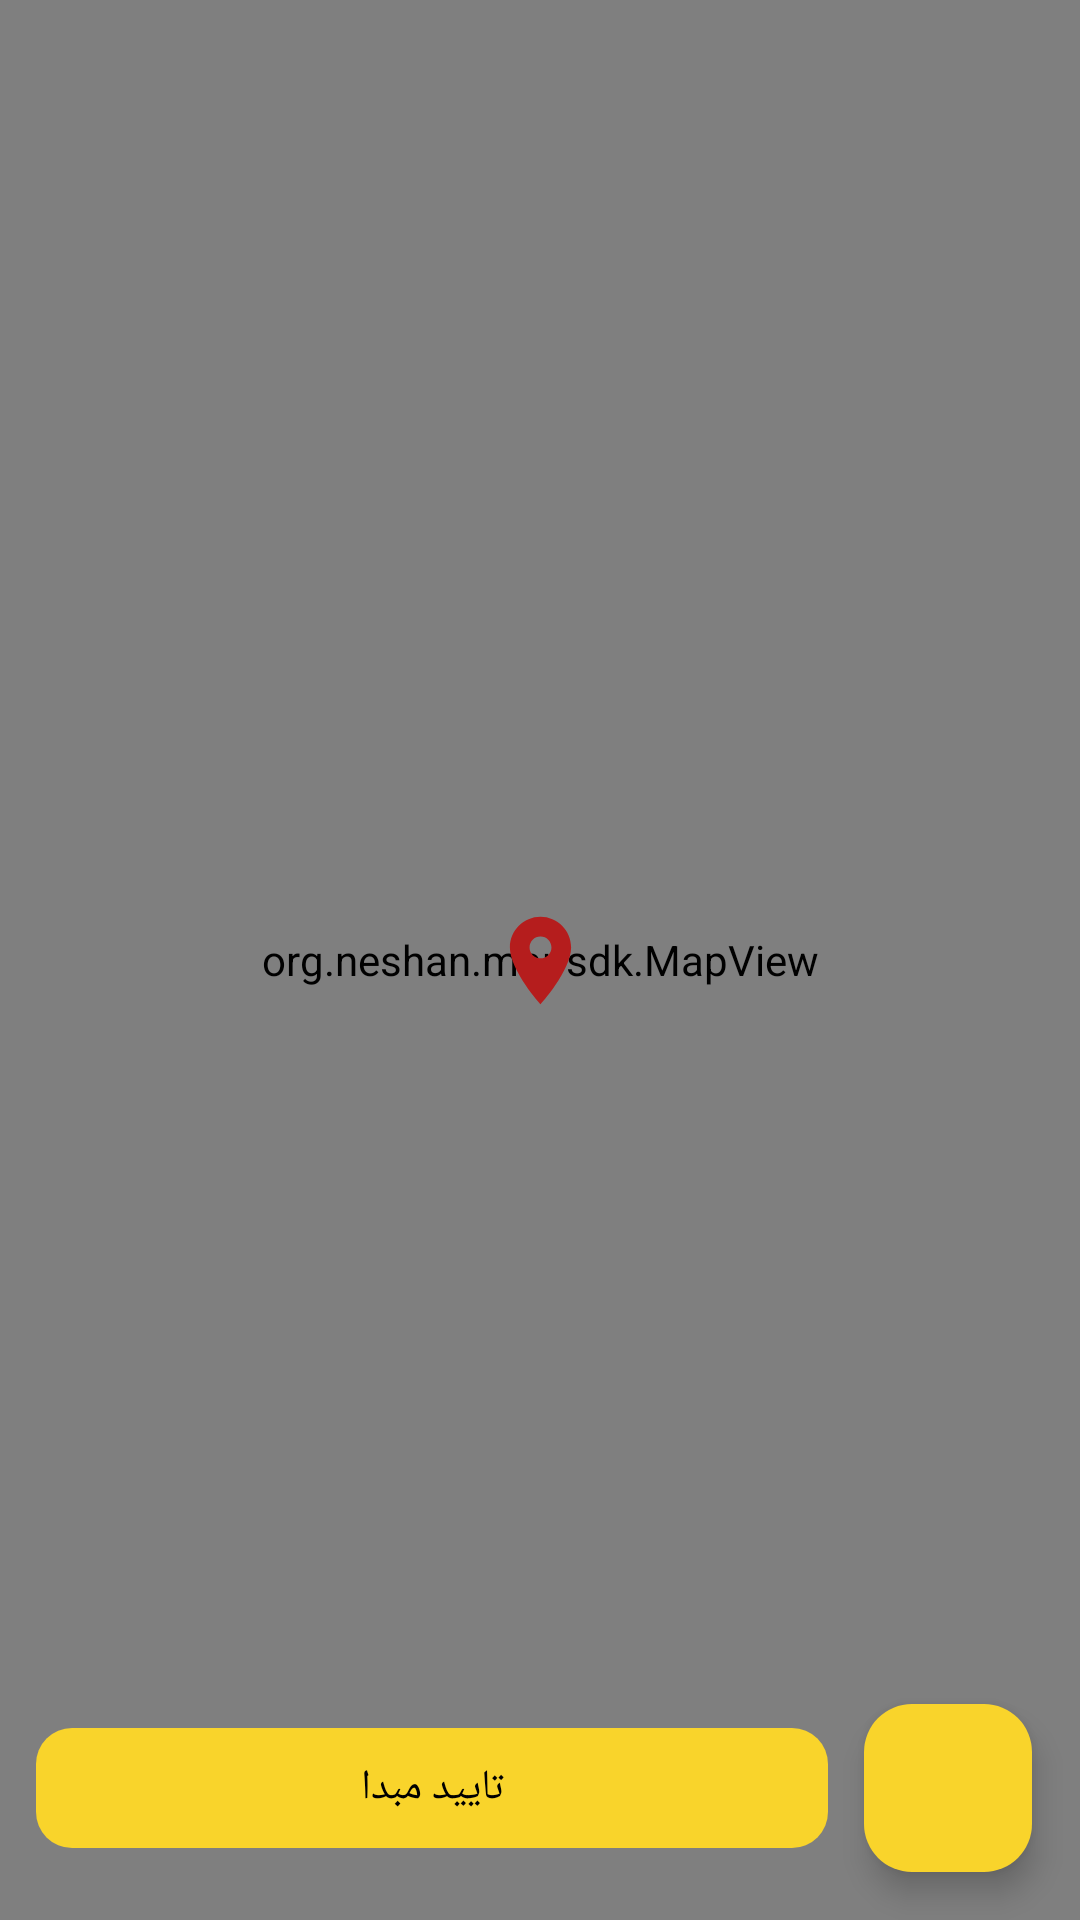

Screen size 1080px×1920px. Icon name, then its center in pixels as (x=x, y=y):
location on: (x=537, y=960)
